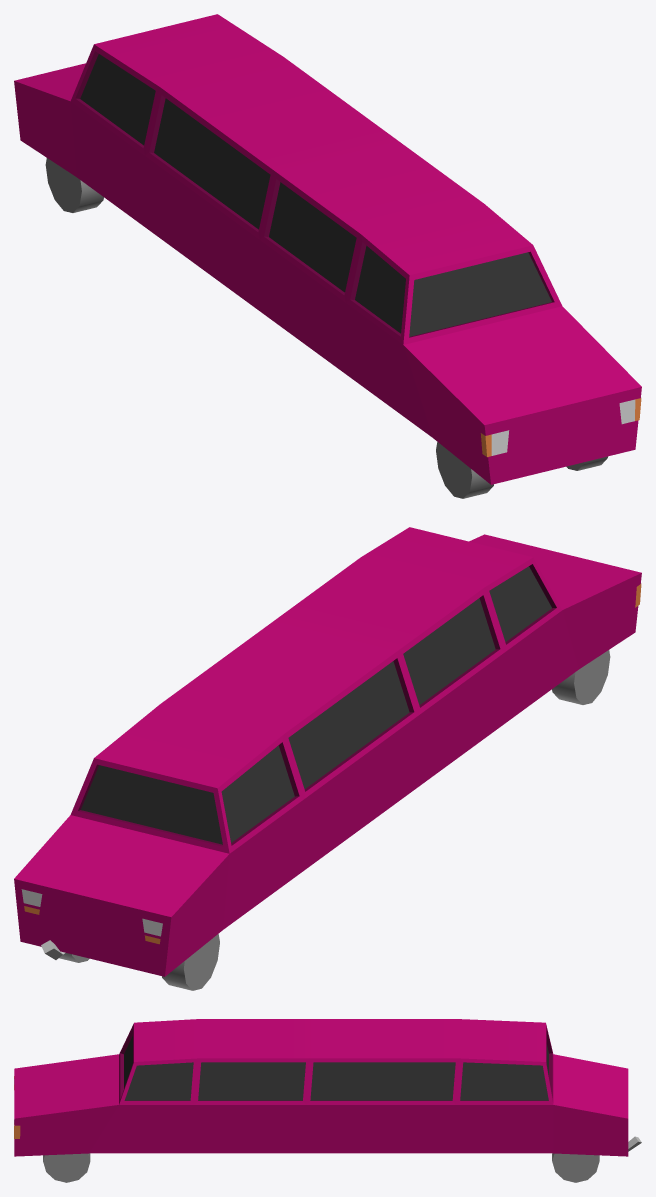
Rendered from limo_06.fbx.
The picture shows the model from 3 angles, top to bottom: view 1: azimuth 30°, elevation 25°; view 2: azimuth 150°, elevation 25°; view 3: azimuth 270°, elevation 25°; orthographic projection. The views are drawn at different scales.
Visible parts, largest first — view 1: limo_06; view 2: limo_06; view 3: limo_06.
Part boxes in pixels (x1,y1,x2,y2): limo_06: [14, 14, 641, 498]; limo_06: [14, 527, 641, 990]; limo_06: [14, 1019, 641, 1182].
Size of the model in its own units: 1.6 by 1.8 by 8.39.
